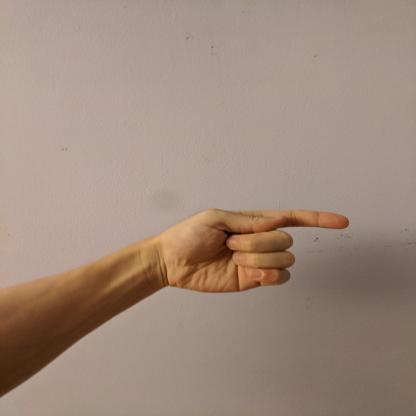G: (160, 206, 353, 296)
